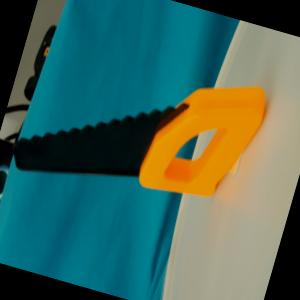serrote: (6, 25, 271, 231)
